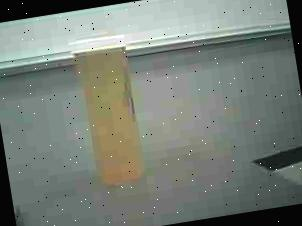Bottle A: (71, 36, 142, 185)
